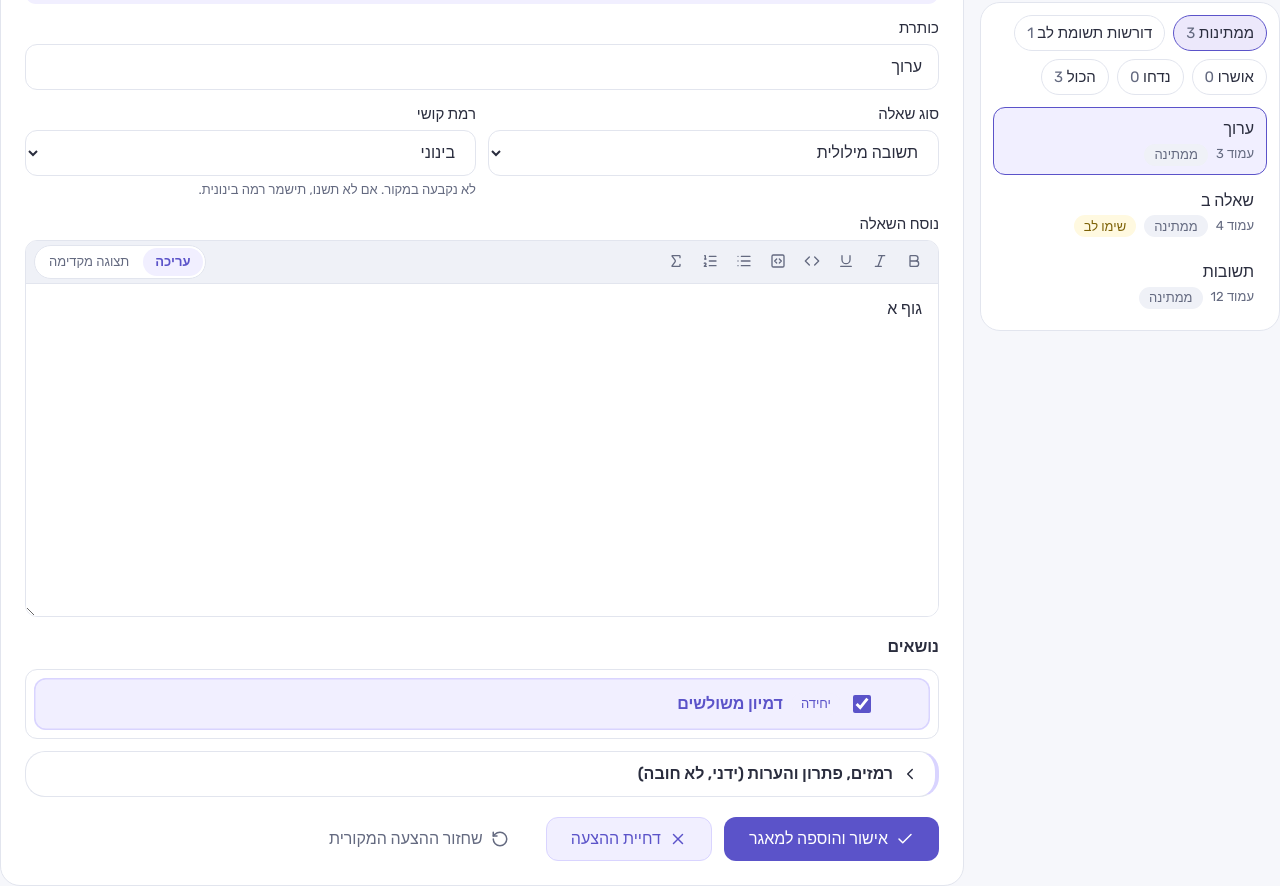
Test: ImportReviewPage › restore replaces the draft with the original proposal
The width and height of the screenshot is (1280, 886).
(page scrolled)
Check: the field showing "ערוך" is shown, box x1=25 y1=44 x2=939 y2=90
Click the button "שחזור ההצעה המקורית" at (419, 838), box x1=304 y1=816 x2=534 y2=860
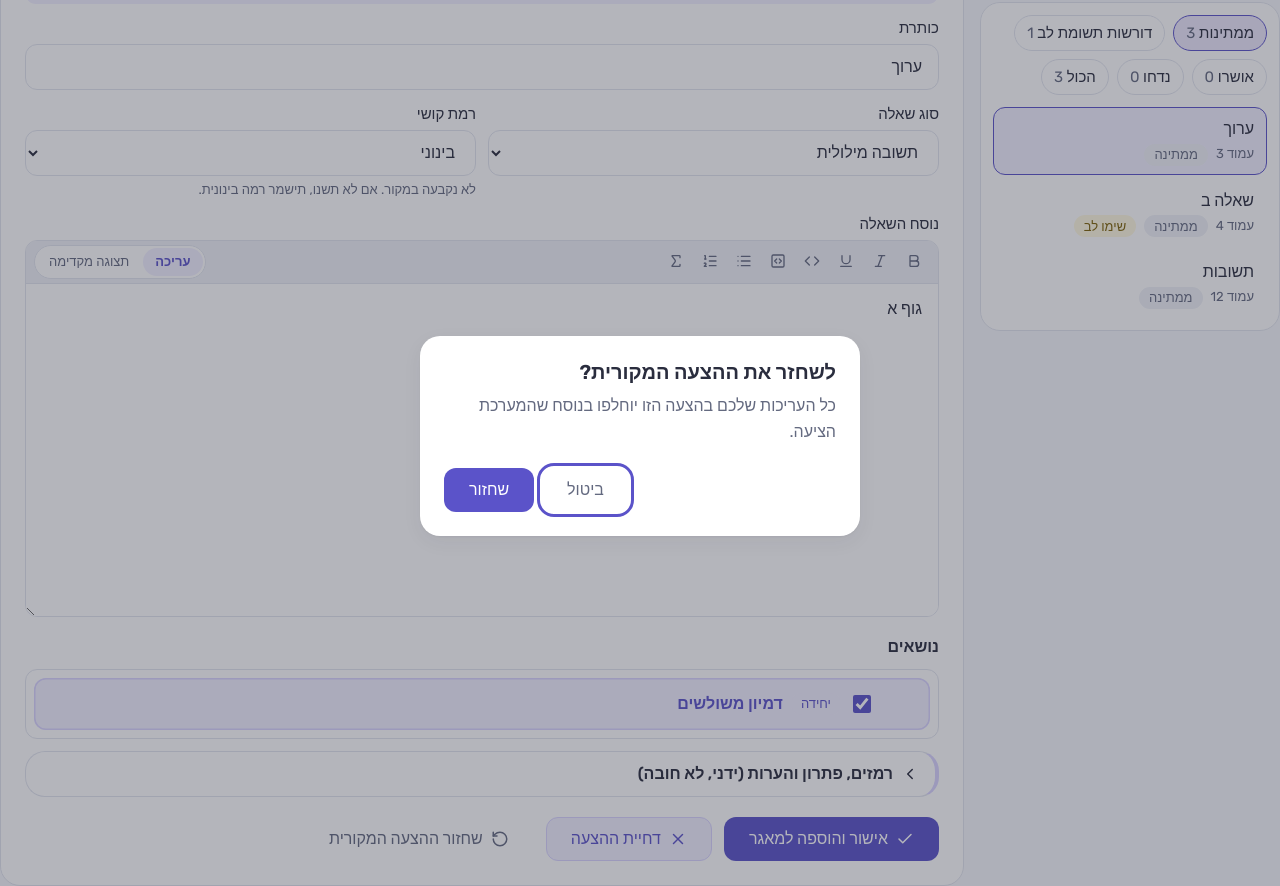
Click the button "שחזור" at (489, 490), box x1=444 y1=468 x2=534 y2=512
(page scrolled)
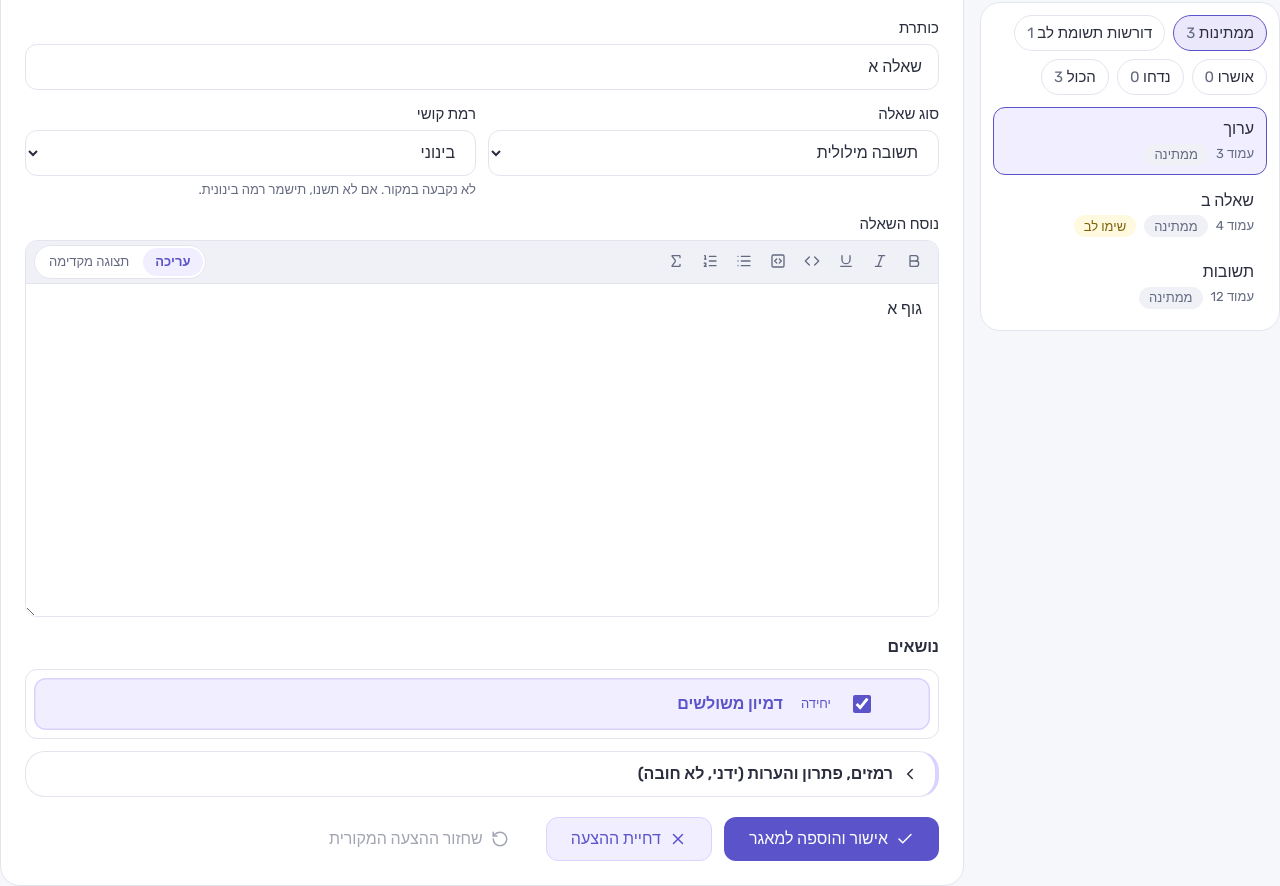
Check: the field showing "שאלה א" is shown, box x1=25 y1=44 x2=939 y2=90
